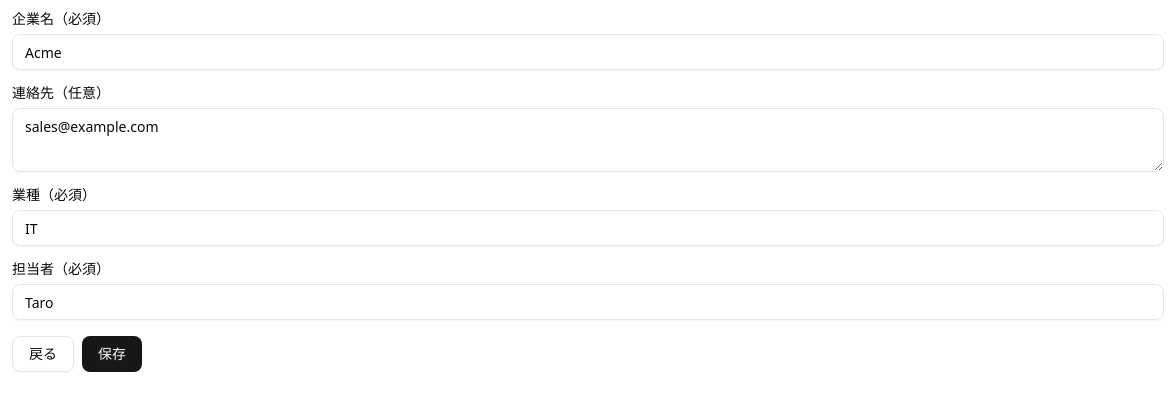
CompanyEditForm › バリデーションエラー時、各項目の下にエラーメッセージが表示される
Clear the field labelled "企業名（必須）": [588, 52] box [12,34,1164,70]
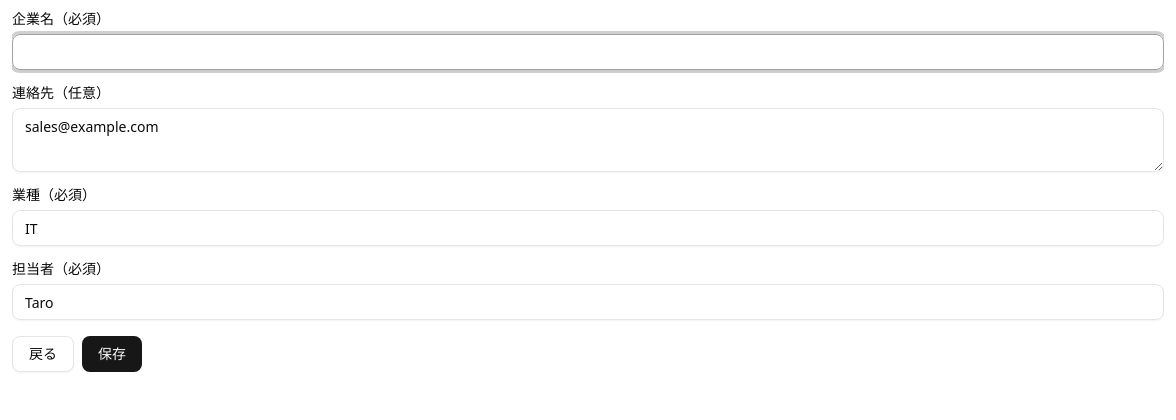
Click the button "保存": [112, 354] box [82,336,142,372]
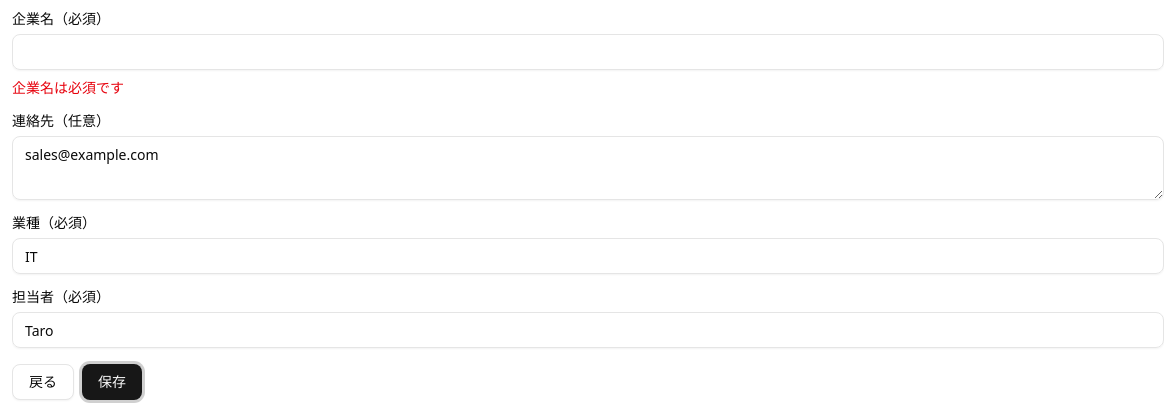
Now the text "企業名は必須です" is shown, box [12,78,124,97]
